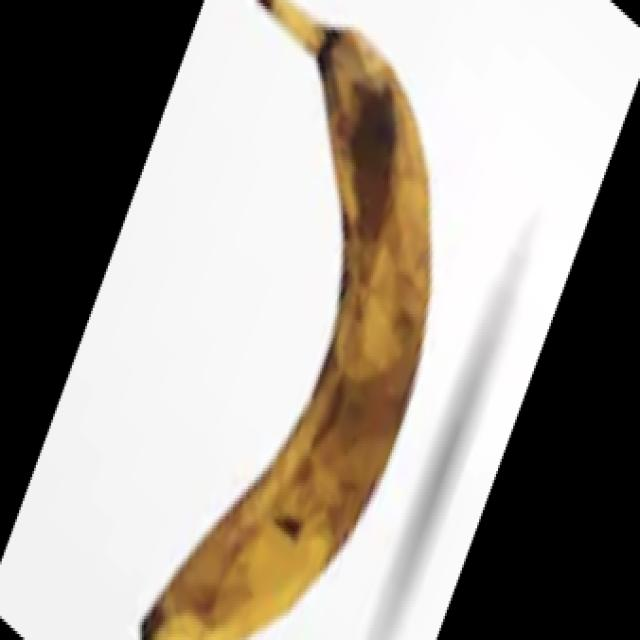overripe: (138, 0, 436, 640)
